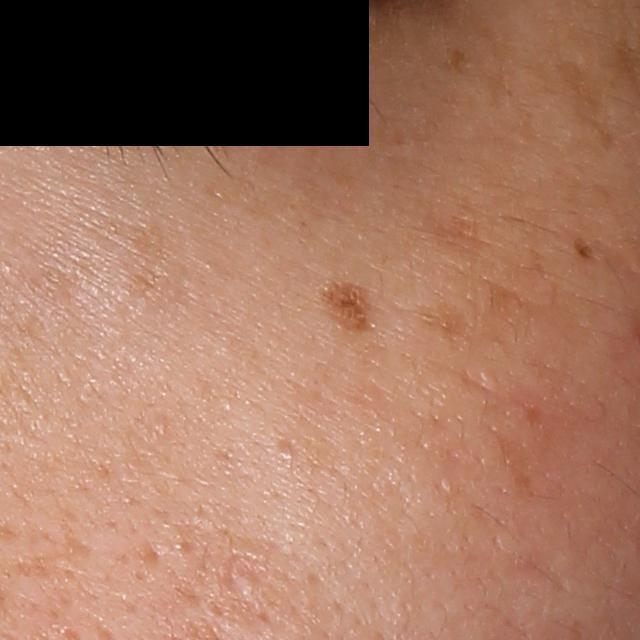melasma: (557, 57, 616, 153), (428, 210, 487, 265), (405, 299, 474, 343), (438, 39, 472, 82), (571, 237, 596, 258)
nevus: (315, 278, 377, 336)
